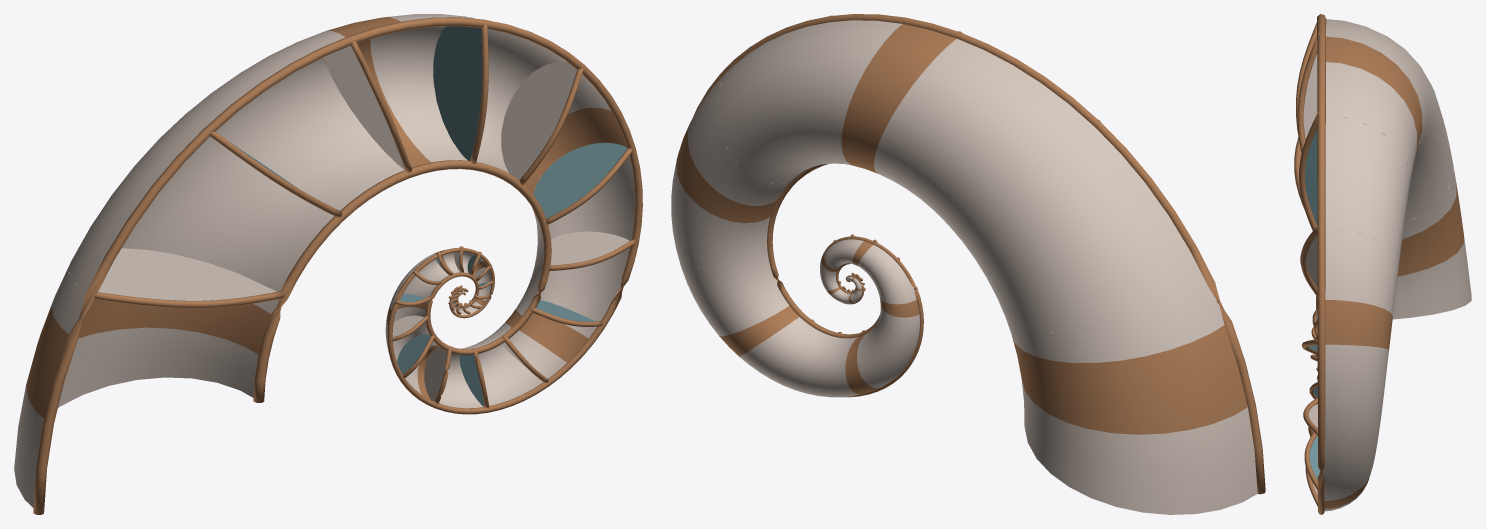
Rendered from ammonite.glb.
3 views of the same model, side by side, from view 1: azimuth 30°, elevation 25°; view 2: azimuth 150°, elevation 25°; view 3: azimuth 270°, elevation 25° (orthographic). The views are drawn at different scales.
Parts seen in each view (by area): view 1: ammonite; view 2: ammonite; view 3: ammonite.
Boxes of the visible parts, left/top/right/bottom form: ammonite: left=14, top=14, right=642, bottom=514; ammonite: left=671, top=14, right=1265, bottom=514; ammonite: left=1294, top=14, right=1471, bottom=514.
Bounding box in the file's own units: 8.64 × 5.59 × 2.23.
